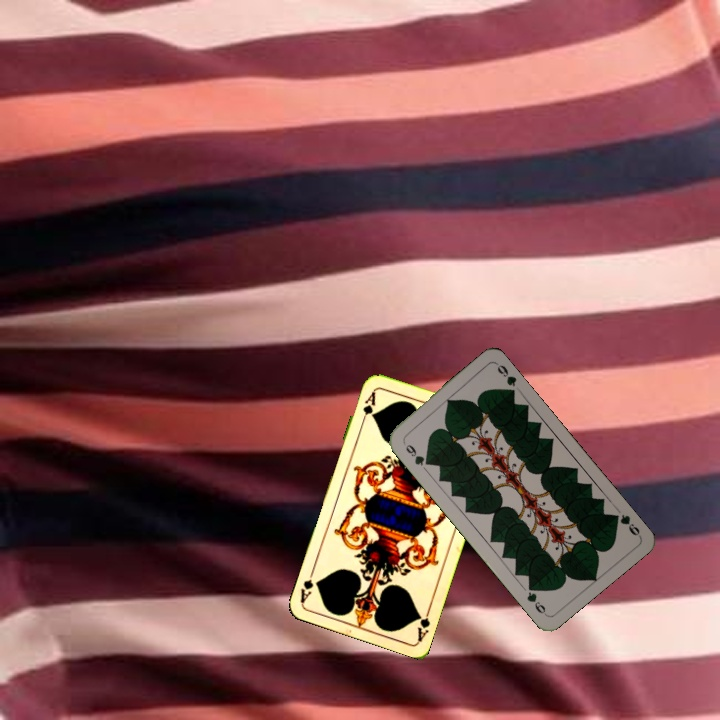G9: (399, 437, 433, 468), (607, 510, 643, 539)
GA: (413, 603, 433, 643), (358, 386, 378, 425)
